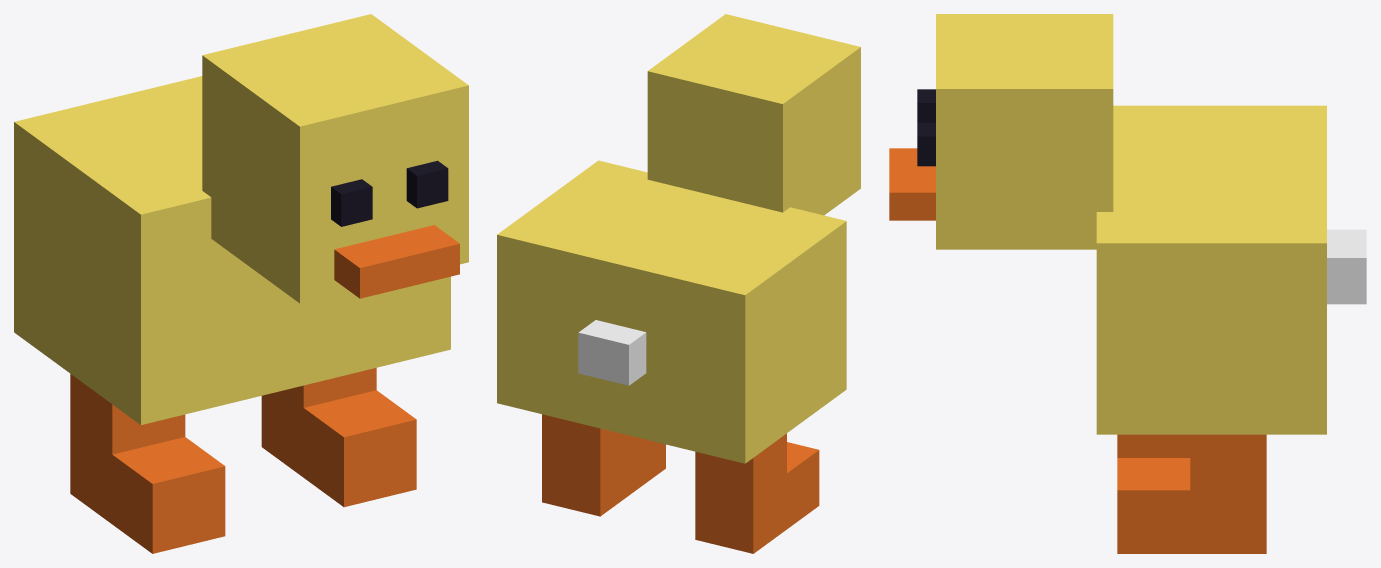
Rendered from animal1.fbx.
3 views of the same model, side by side, from view 1: azimuth 30°, elevation 25°; view 2: azimuth 150°, elevation 25°; view 3: azimuth 270°, elevation 25° (orthographic). The views are drawn at different scales.
Visible parts, largest first — view 1: Chicken; view 2: Chicken; view 3: Chicken.
Boxes of the visible parts, x1,y1,x2,y2 form: Chicken: (14,14,468,553); Chicken: (497,14,860,553); Chicken: (889,14,1366,553).
Size of the model in its own units: 0.8249 by 1.24 by 1.21.
